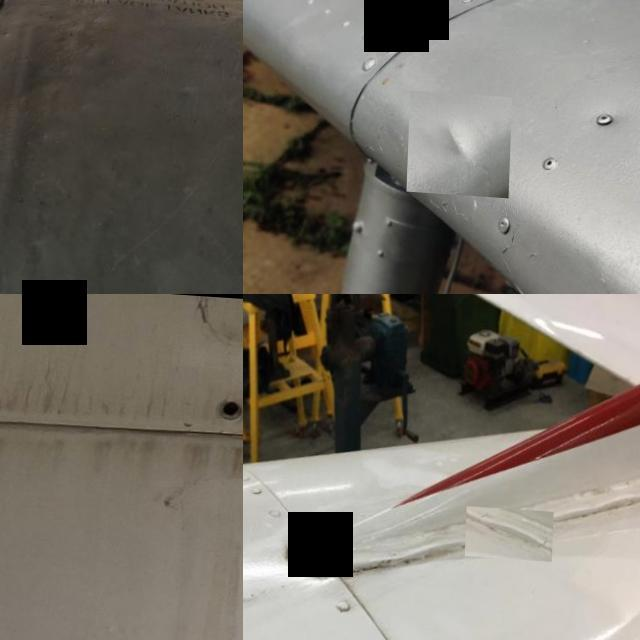Crack: (274, 513, 457, 591), (468, 500, 556, 554)
Dent: (409, 87, 514, 194)
Missing_Fastener: (214, 393, 243, 417)
